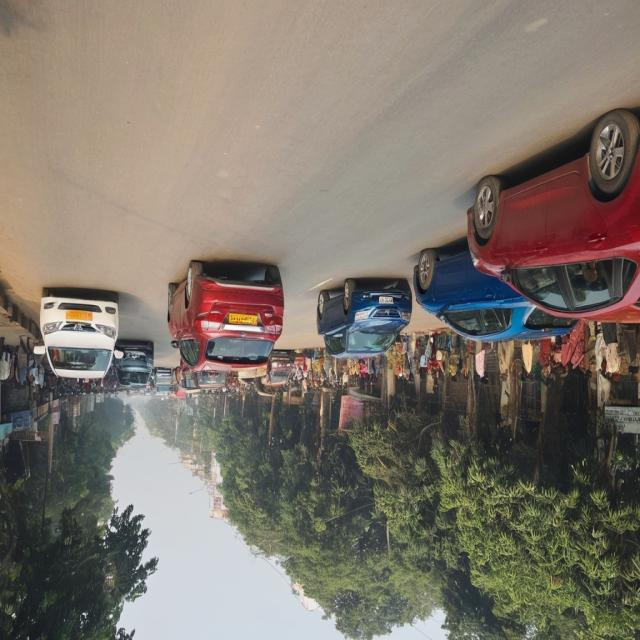black: (113, 334, 155, 391)
blue: (410, 242, 583, 345), (167, 259, 287, 377), (314, 281, 412, 364)
red: (461, 106, 640, 332)
white: (43, 281, 118, 385)
